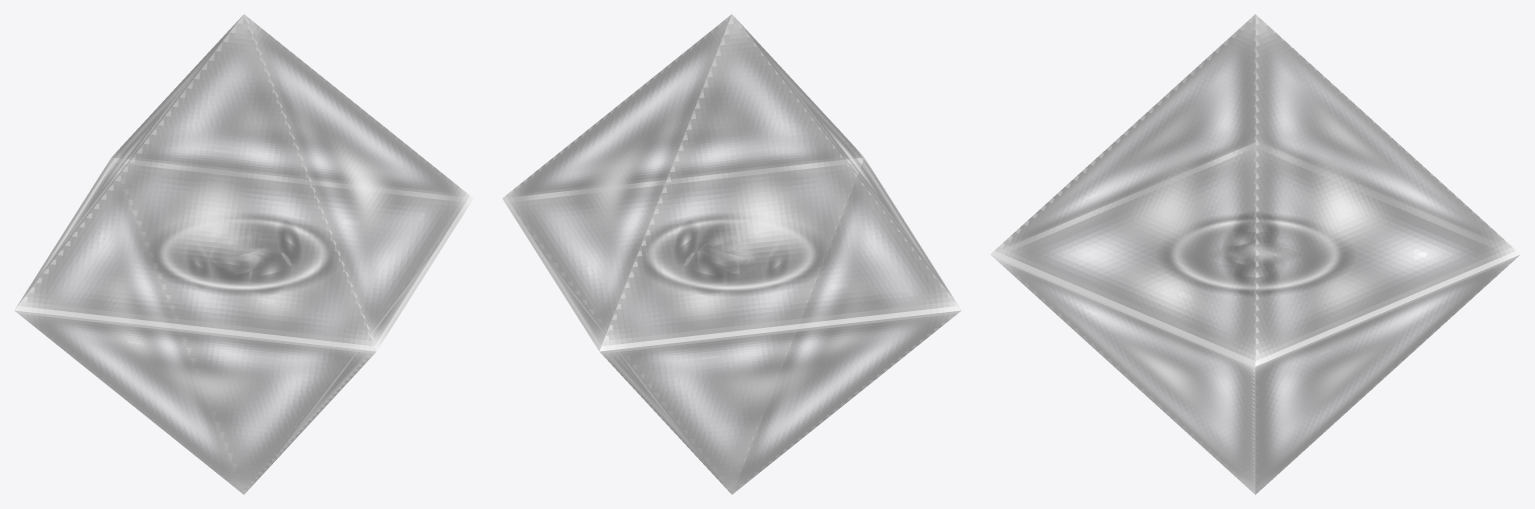
Rendered from si_eop_0100.glb.
3 views of the same model, side by side, from view 1: azimuth 30°, elevation 25°; view 2: azimuth 150°, elevation 25°; view 3: azimuth 270°, elevation 25° (orthographic).
Visible parts, largest first — view 1: layer_00_si_eop_0100, layer_01_si_eop_0100, layer_03_si_eop_0100, layer_06_si_eop_0100, layer_02_si_eop_0100, layer_07_si_eop_0100, layer_11_si_est_0402, layer_04_si_eop_0100, layer_09_si_est_0100, layer_10_si_est_0100, layer_05_si_eop_0100; view 2: layer_04_si_eop_0100, layer_05_si_eop_0100, layer_07_si_eop_0100, layer_02_si_eop_0100, layer_06_si_eop_0100, layer_03_si_eop_0100, layer_11_si_est_0402, layer_00_si_eop_0100, layer_09_si_est_0100, layer_10_si_est_0100, layer_01_si_eop_0100; view 3: layer_02_si_eop_0100, layer_06_si_eop_0100, layer_03_si_eop_0100, layer_07_si_eop_0100, layer_01_si_eop_0100, layer_05_si_eop_0100, layer_11_si_est_0402, layer_04_si_eop_0100, layer_00_si_eop_0100, layer_09_si_est_0100, layer_10_si_est_0100.
Part boxes in pixels (bbox=[...]): layer_00_si_eop_0100: bbox=[14, 14, 376, 351]; layer_01_si_eop_0100: bbox=[112, 157, 465, 489]; layer_03_si_eop_0100: bbox=[15, 310, 375, 494]; layer_06_si_eop_0100: bbox=[244, 14, 473, 350]; layer_02_si_eop_0100: bbox=[113, 17, 464, 196]; layer_07_si_eop_0100: bbox=[23, 159, 242, 492]; layer_11_si_est_0402: bbox=[152, 216, 333, 293]; layer_04_si_eop_0100: bbox=[15, 15, 242, 308]; layer_09_si_est_0100: bbox=[190, 224, 299, 291]; layer_10_si_est_0100: bbox=[215, 238, 246, 278]; layer_05_si_eop_0100: bbox=[251, 240, 441, 485]; layer_04_si_eop_0100: bbox=[599, 14, 961, 351]; layer_05_si_eop_0100: bbox=[510, 157, 863, 492]; layer_07_si_eop_0100: bbox=[600, 310, 960, 494]; layer_02_si_eop_0100: bbox=[502, 14, 731, 350]; layer_06_si_eop_0100: bbox=[511, 17, 862, 196]; layer_03_si_eop_0100: bbox=[734, 159, 950, 489]; layer_11_si_est_0402: bbox=[642, 216, 823, 293]; layer_00_si_eop_0100: bbox=[733, 15, 960, 308]; layer_09_si_est_0100: bbox=[676, 224, 785, 282]; layer_10_si_est_0100: bbox=[701, 229, 734, 278]; layer_01_si_eop_0100: bbox=[536, 243, 725, 487]; layer_02_si_eop_0100: bbox=[1255, 14, 1520, 366]; layer_06_si_eop_0100: bbox=[990, 14, 1255, 366]; layer_03_si_eop_0100: bbox=[1003, 142, 1255, 491]; layer_07_si_eop_0100: bbox=[1255, 143, 1506, 492]; layer_01_si_eop_0100: bbox=[1255, 255, 1519, 494]; layer_05_si_eop_0100: bbox=[991, 255, 1255, 494]; layer_11_si_est_0402: bbox=[1164, 216, 1347, 292]; layer_04_si_eop_0100: bbox=[1256, 18, 1508, 248]; layer_00_si_eop_0100: bbox=[1003, 17, 1255, 247]; layer_09_si_est_0100: bbox=[1236, 217, 1275, 282]; layer_10_si_est_0100: bbox=[1224, 227, 1254, 275].
Bounding box in the file's own units: 100 × 100 × 100.
Materials: 4 (4 with a texture image).
